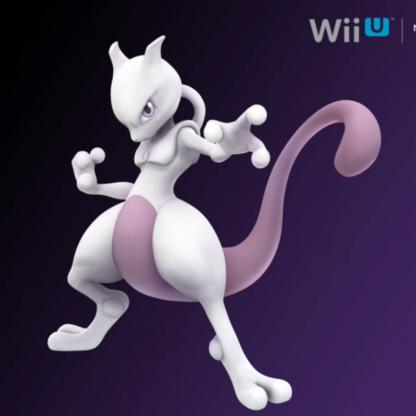Mewtwo: (34, 41, 396, 416)
